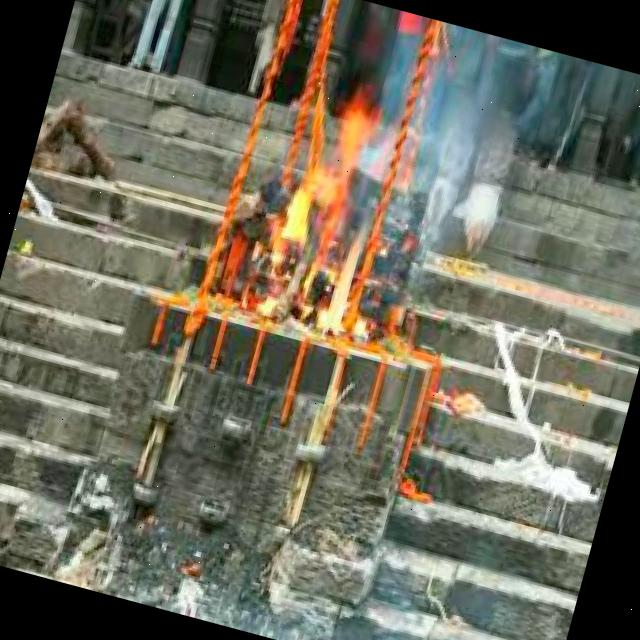fire: (247, 72, 414, 350)
